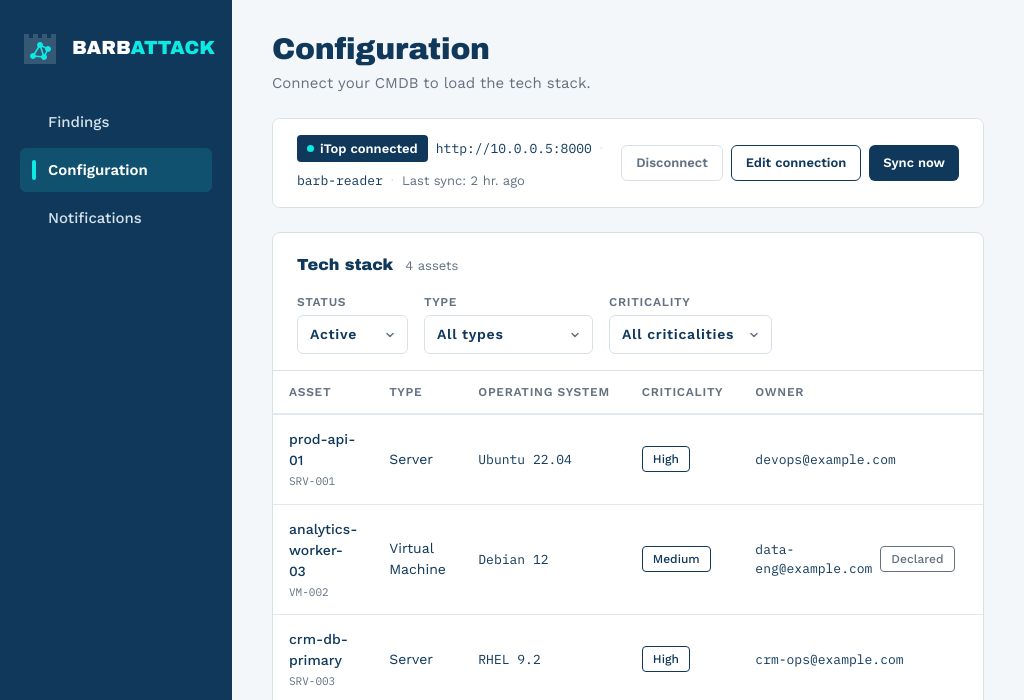
Test: Configuration › cancelling the disconnect keeps the connection
Expected: the text "iTop connected" is shown, [297,134,428,162]
Step 1. Click the button "Disconnect" → [672, 163], box [621,145,723,181]
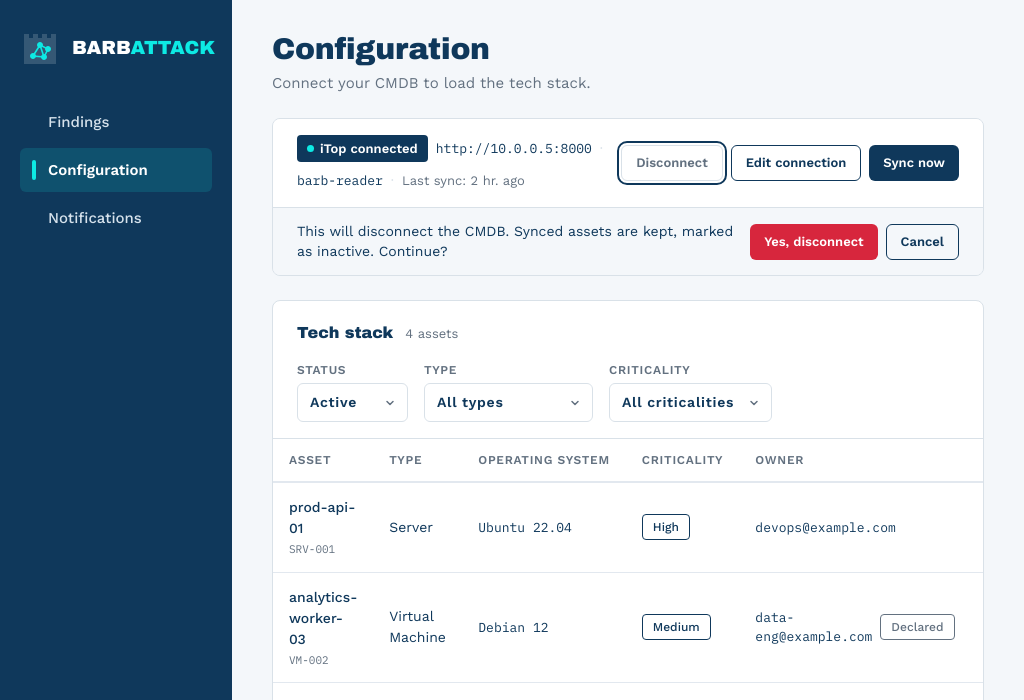
Now the text "This will disconnect the CMDB. Synced assets are kept, marked as inactive. Continue?" is shown, box [297,223,733,259]
Step 2. Click the button "Cancel" → [922, 242], box [886,224,959,260]
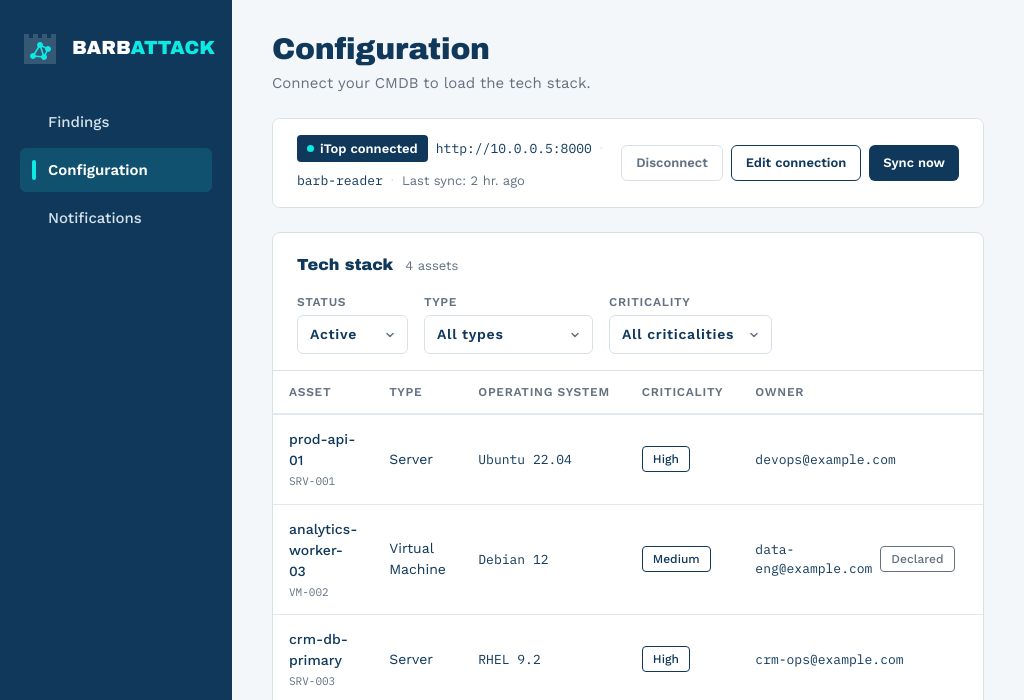
Expected: the text "iTop connected" is shown, [297,134,428,162]
Now the text "This will disconnect the CMDB. Synced assets are kept, marked as inactive. Continue?" is gone
